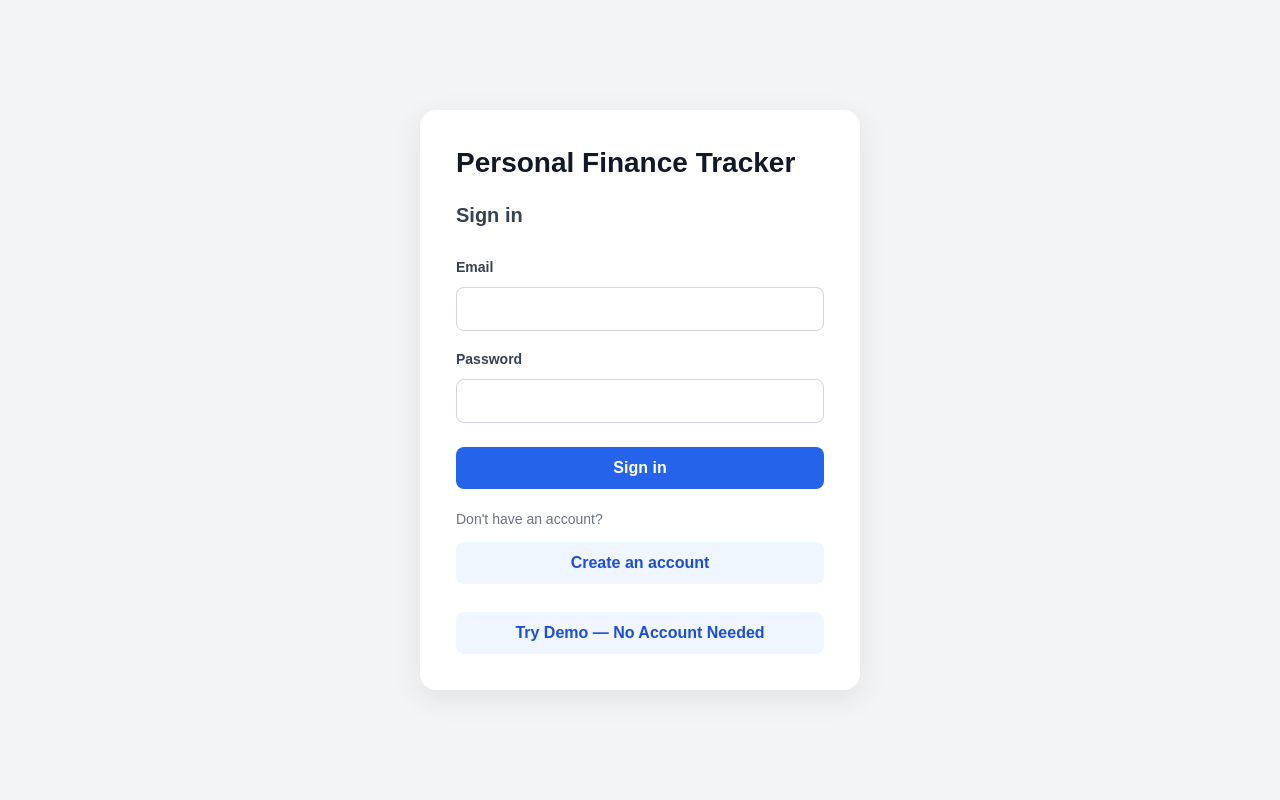
Test: sends a POST request when adding an expense
This screenshot has width=1280, height=800.
Type "test@example.com" into the field labelled "Email" at coordinates (640, 309), box [456,287,824,331]
Type "test-password" into the password field labelled "Password" at coordinates (640, 401), box [456,379,824,423]
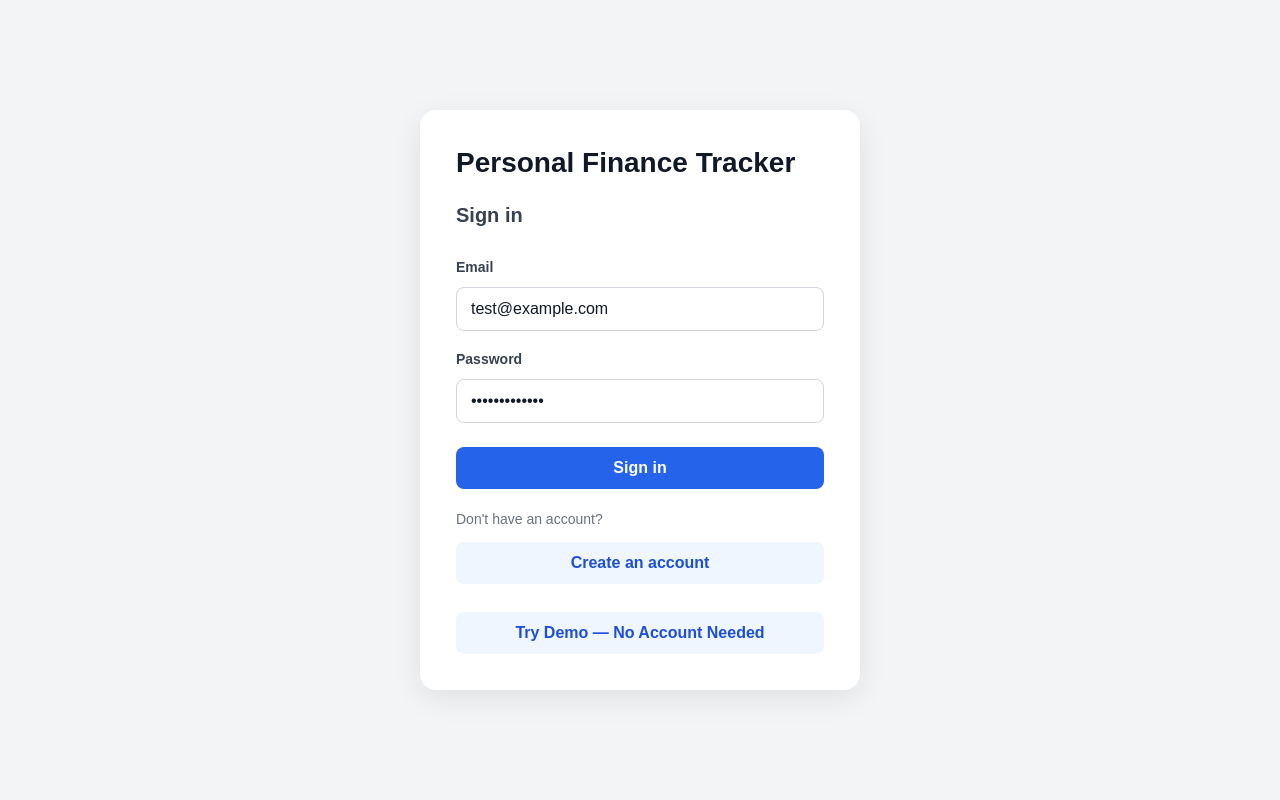
Click the button "Sign in" at coordinates (640, 468), box [456,447,824,489]
(page scrolled)
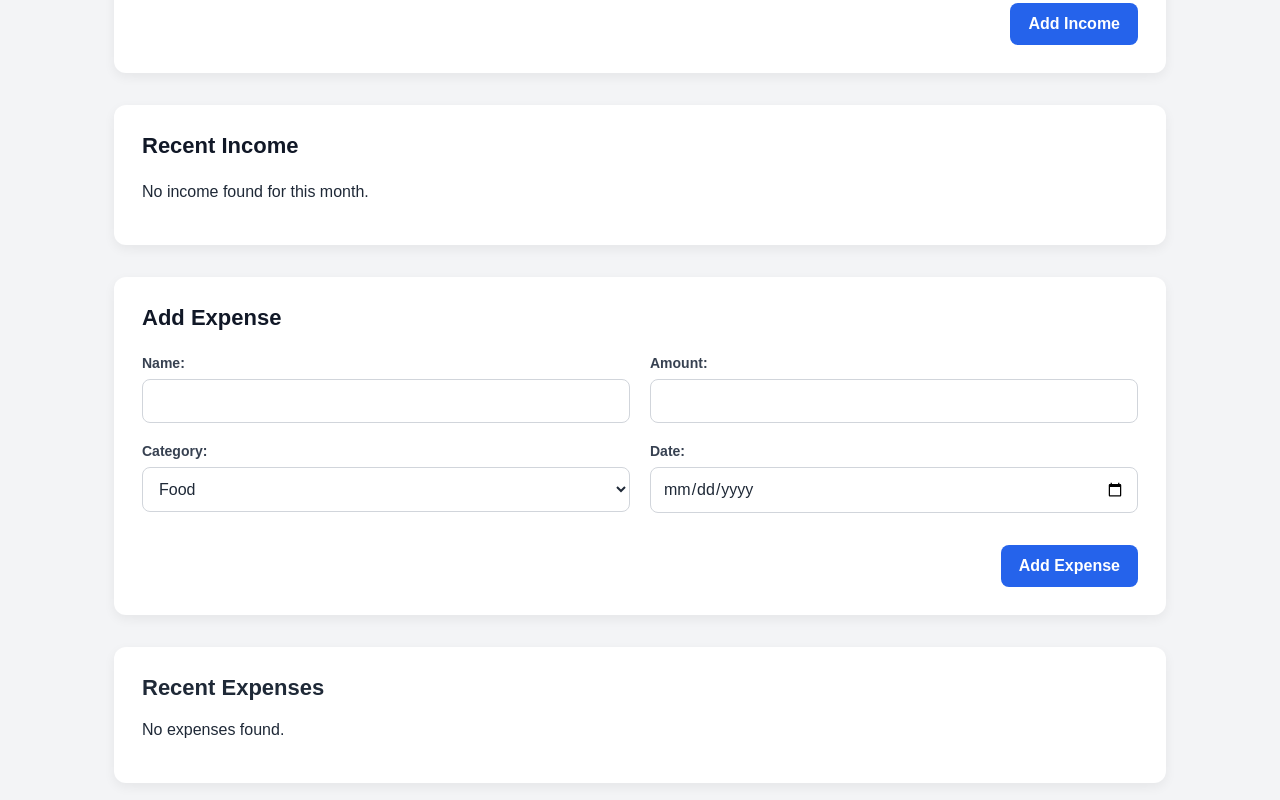
Type "Coffee" into the field labelled "Name:" at coordinates (386, 401), box [142,379,630,423]
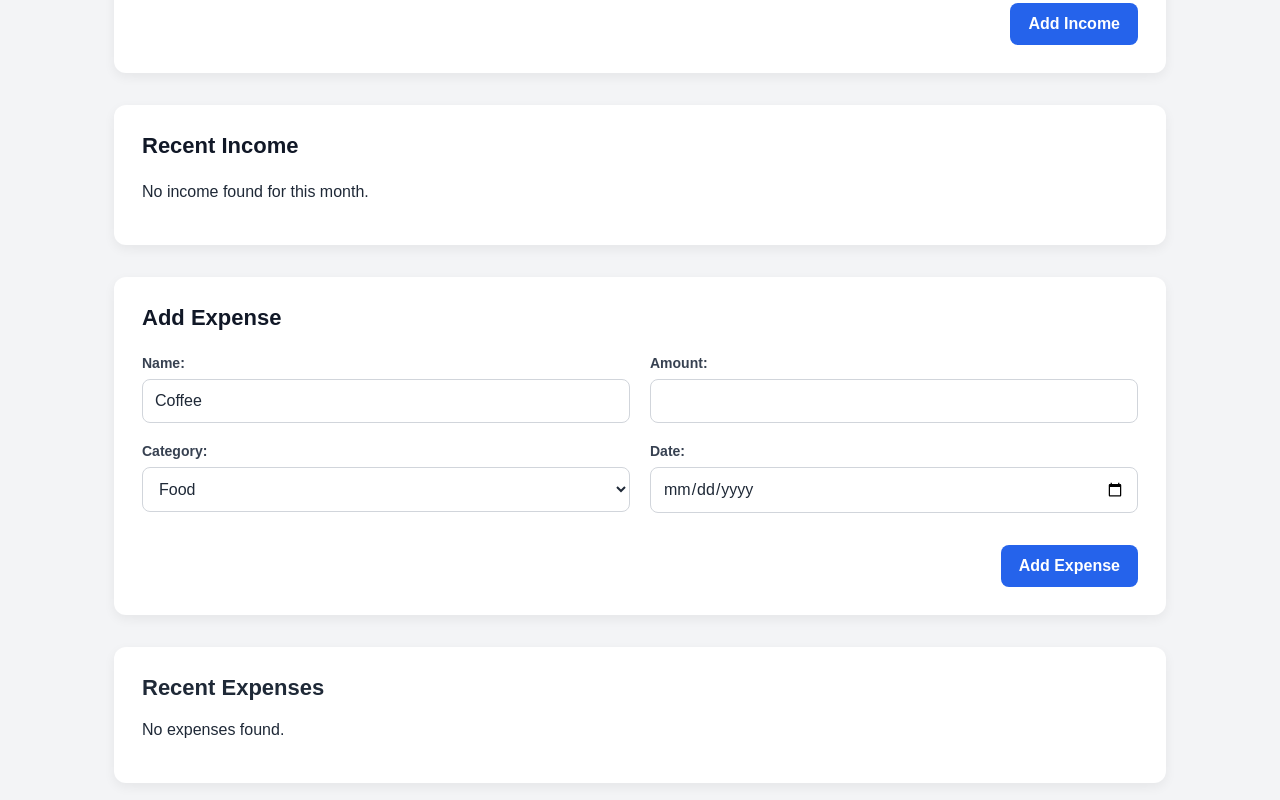
Type "5" into the number field labelled "Amount:" at coordinates (894, 401), box [650,379,1138,423]
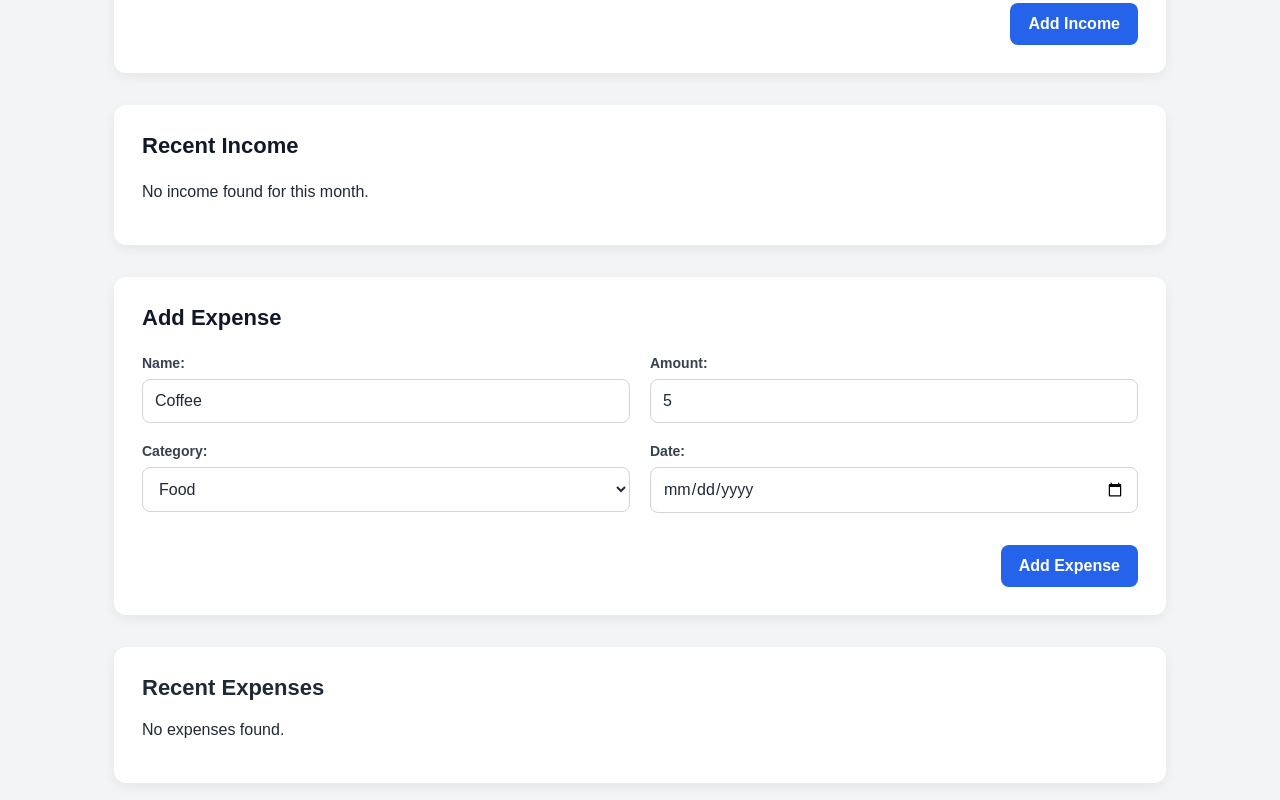
Type "2026-11-04" into the date field labelled "Date:" at coordinates (894, 490), box [650,467,1138,513]
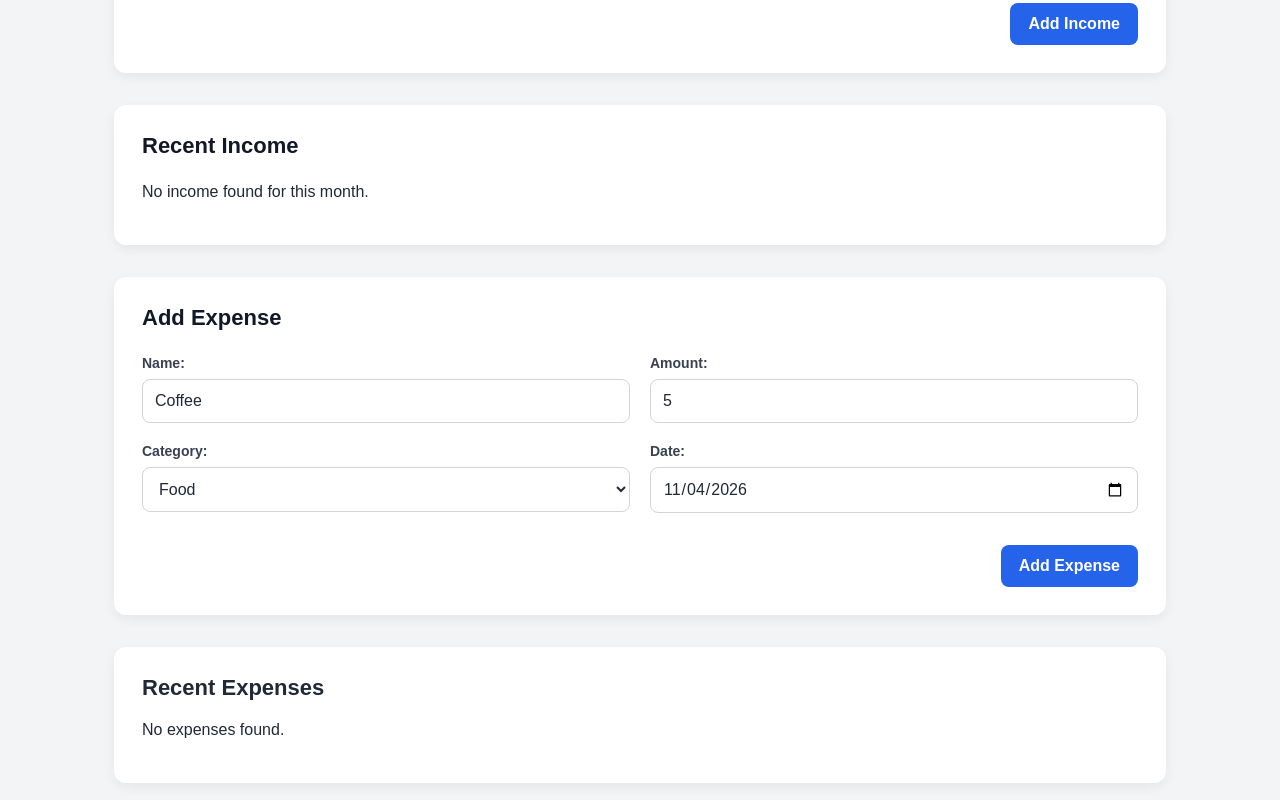
Click the button "Add Expense" at coordinates (1069, 566), box [1001,545,1138,587]
(page scrolled)
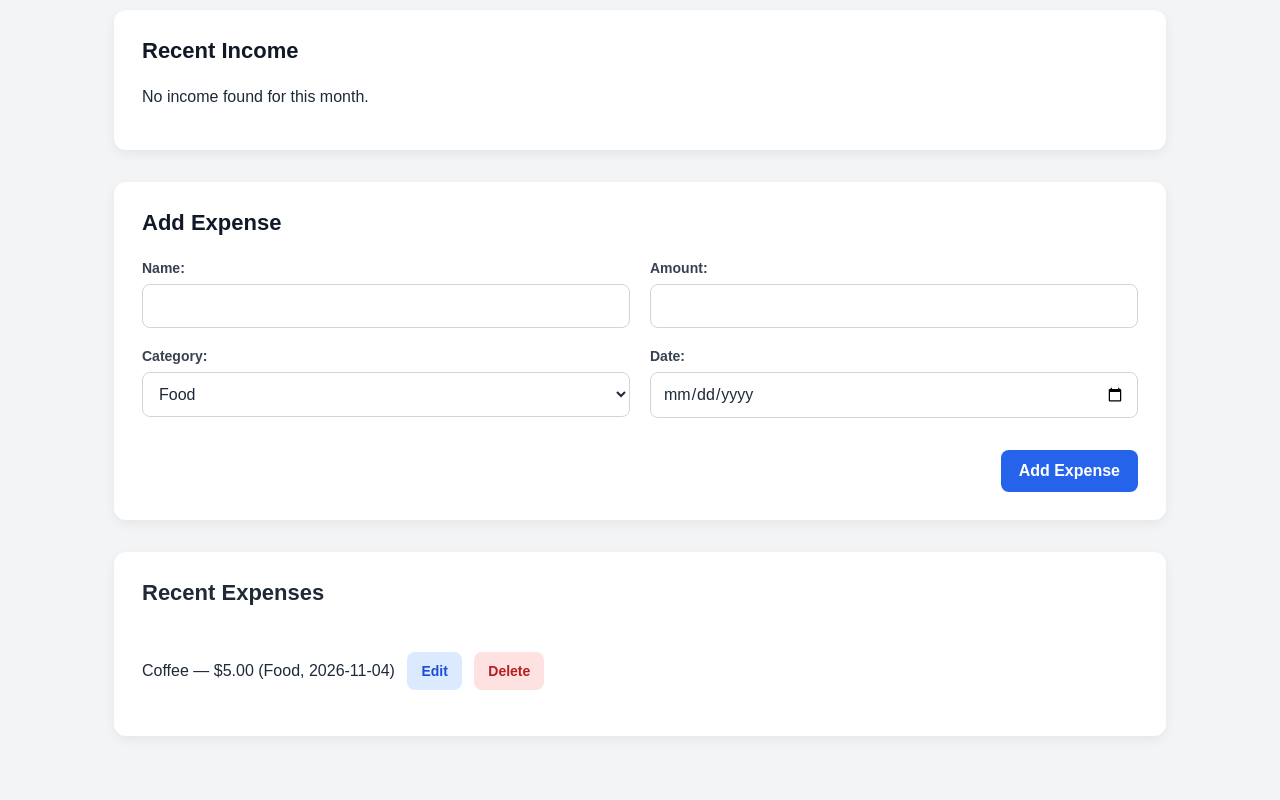
Expected: the list item "Coffee — $5.00 (Food, 2026-11-04) Edit Delete" is shown, [142,652,544,690]
